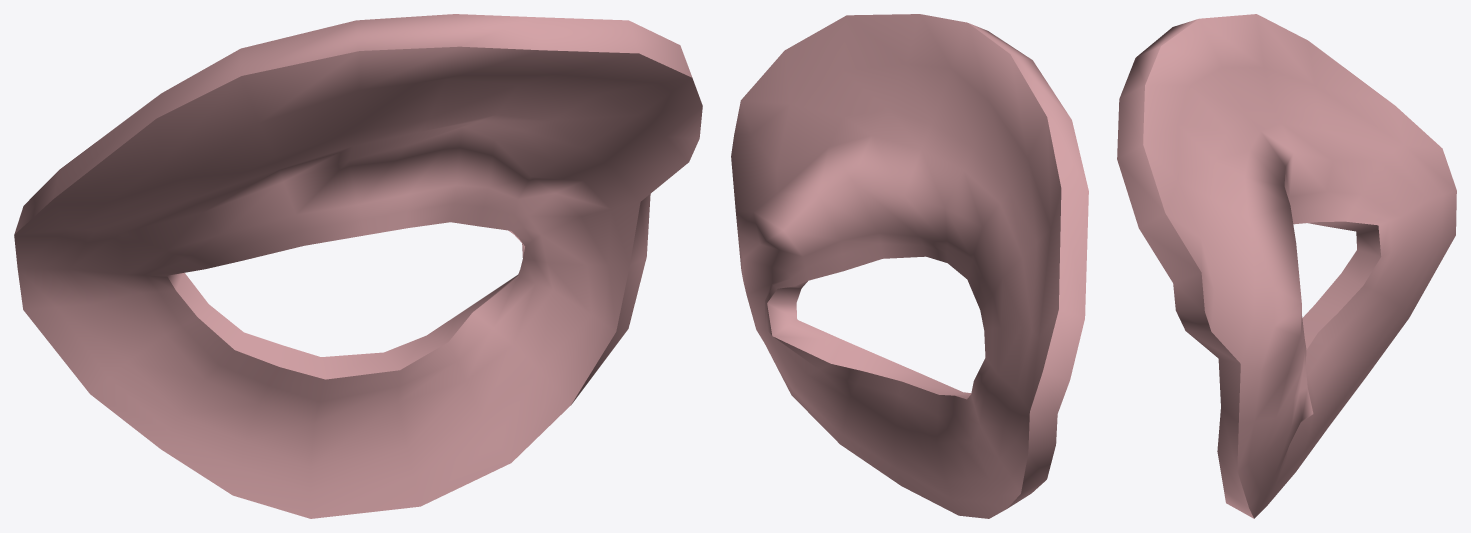
3 views of the same model, side by side, from view 1: azimuth 30°, elevation 25°; view 2: azimuth 150°, elevation 25°; view 3: azimuth 270°, elevation 25° (orthographic). The views are drawn at different scales.
Parts seen in each view (by area): view 1: ZA_9993caeb80cd36b4; view 2: ZA_9993caeb80cd36b4; view 3: ZA_9993caeb80cd36b4.
Boxes of the visible parts, left/top/right/bottom form: ZA_9993caeb80cd36b4: left=14, top=14, right=702, bottom=518; ZA_9993caeb80cd36b4: left=731, top=14, right=1088, bottom=518; ZA_9993caeb80cd36b4: left=1117, top=14, right=1456, bottom=518.
Bounding box in the file's own units: 0.0491 × 0.0462 × 0.0313.
